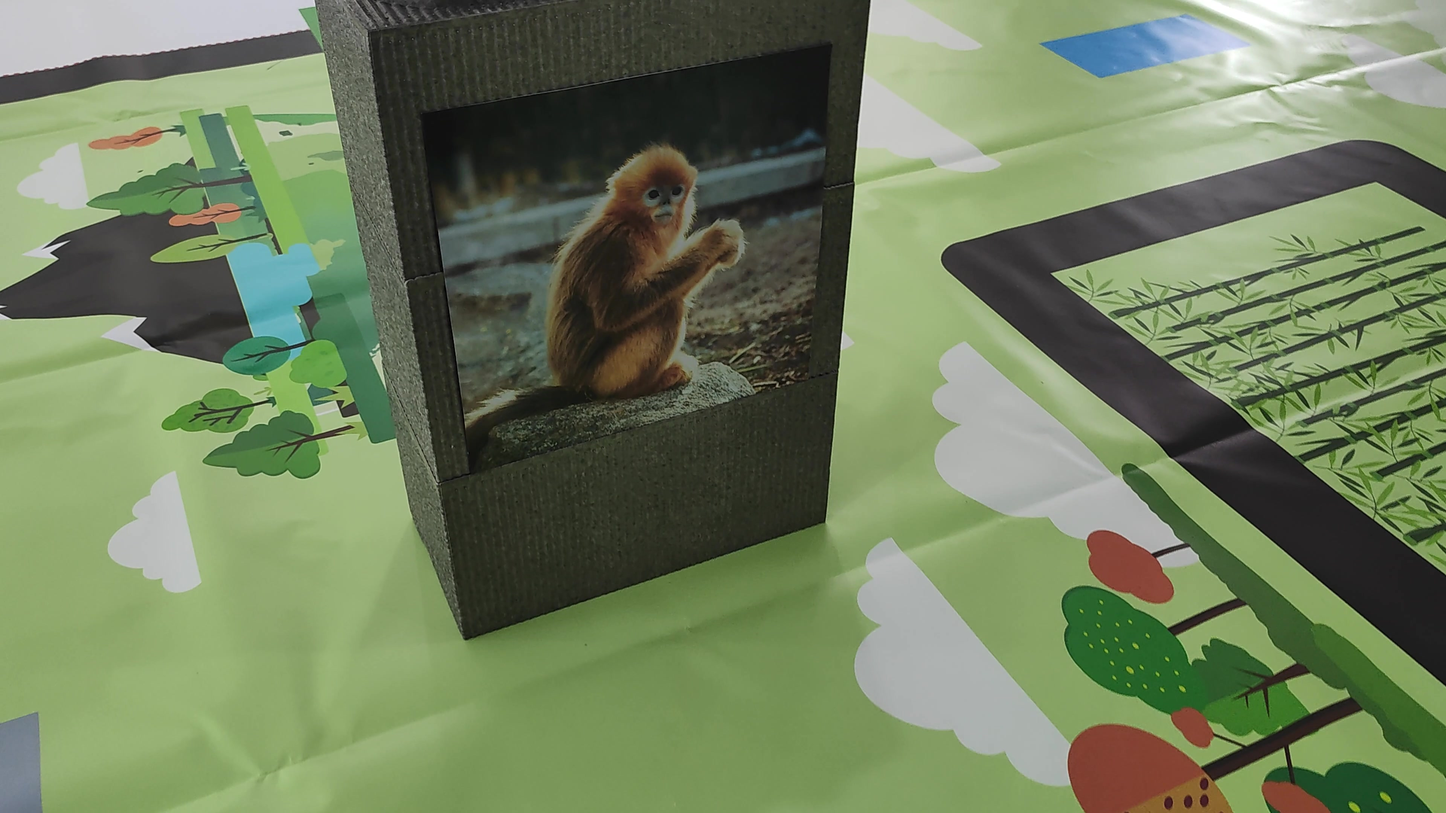monkey: (447, 131, 759, 448)
